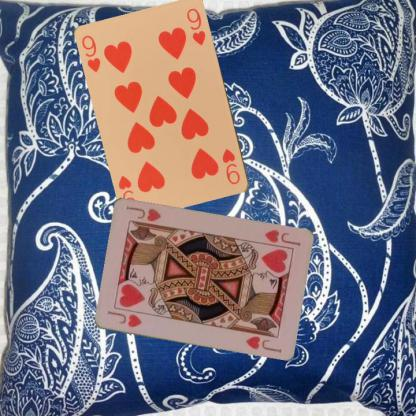9h: (79, 32, 102, 74), (219, 146, 242, 186)
Jh: (256, 227, 301, 251), (104, 308, 143, 329)
